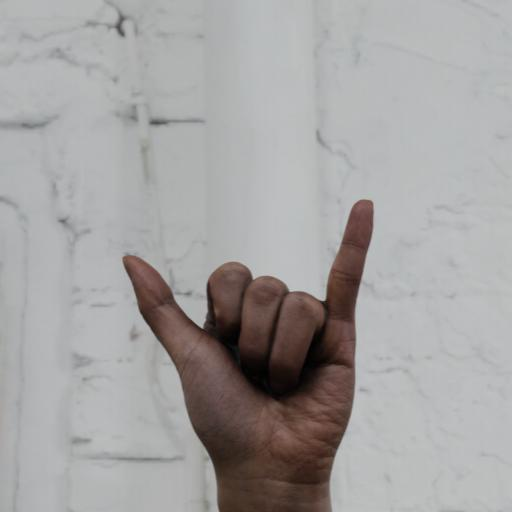Y: (107, 189, 397, 512)
